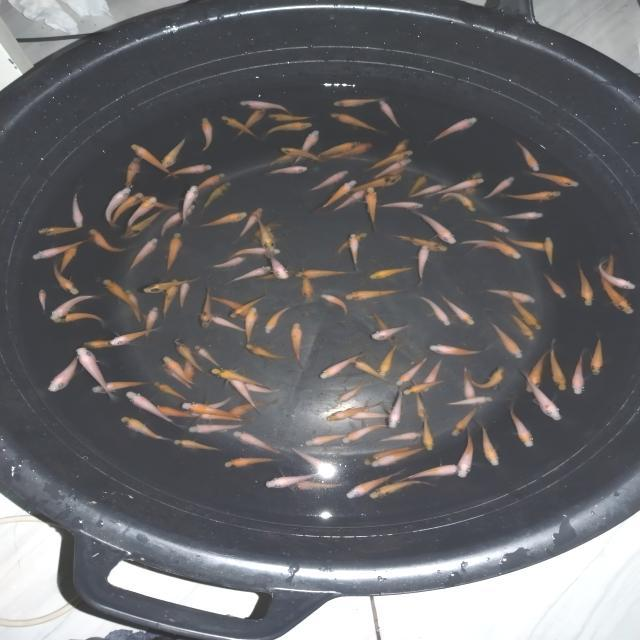nila: (514, 369, 564, 422), (123, 389, 184, 431), (340, 466, 404, 502), (74, 346, 114, 399), (30, 234, 96, 263), (368, 478, 436, 506), (130, 142, 179, 180), (484, 318, 526, 362), (595, 271, 635, 317), (102, 278, 148, 318), (210, 366, 280, 392), (226, 370, 263, 418), (502, 290, 544, 330), (44, 353, 86, 393), (414, 210, 460, 246), (423, 116, 480, 145), (390, 462, 465, 484), (178, 397, 244, 422), (315, 350, 369, 380), (264, 466, 326, 492), (50, 292, 99, 324), (468, 240, 528, 266), (316, 178, 357, 216), (504, 404, 536, 450), (175, 396, 233, 421), (589, 262, 637, 292), (120, 414, 171, 442), (544, 338, 570, 392), (427, 175, 488, 198), (326, 397, 382, 422), (122, 196, 157, 236), (102, 186, 136, 226), (524, 345, 552, 393), (440, 293, 478, 328), (110, 191, 148, 226), (158, 361, 198, 394), (120, 210, 164, 240), (232, 429, 282, 455), (362, 443, 416, 467), (231, 206, 264, 245), (124, 237, 157, 275), (368, 158, 416, 184), (223, 262, 271, 288), (288, 445, 332, 473), (368, 446, 424, 468), (348, 174, 404, 196), (326, 110, 382, 132), (338, 423, 391, 446), (525, 170, 583, 191), (173, 338, 211, 370), (160, 354, 198, 386), (206, 294, 256, 318), (456, 428, 478, 482), (475, 422, 502, 466), (416, 294, 452, 327), (350, 358, 392, 386), (233, 105, 268, 138), (366, 148, 414, 172), (201, 180, 233, 216), (138, 276, 202, 294), (263, 120, 315, 142), (280, 478, 350, 494), (393, 234, 449, 254), (219, 113, 259, 141), (194, 208, 250, 228), (228, 292, 268, 320), (106, 326, 162, 346), (574, 262, 596, 312), (394, 356, 428, 388), (513, 138, 545, 172), (158, 134, 188, 170), (160, 162, 220, 180), (301, 428, 352, 449), (366, 306, 394, 344), (86, 228, 132, 251), (362, 185, 384, 233), (162, 231, 186, 275), (308, 169, 350, 194), (480, 286, 538, 304), (220, 401, 278, 419), (467, 364, 507, 390), (478, 175, 516, 202), (168, 203, 201, 234), (50, 262, 80, 296), (586, 332, 608, 378), (208, 312, 250, 336), (87, 378, 150, 394), (376, 342, 401, 382), (332, 190, 370, 216), (365, 262, 414, 282), (316, 139, 360, 161), (159, 277, 182, 319), (222, 454, 282, 470), (426, 342, 486, 358), (262, 304, 292, 336), (278, 146, 331, 164), (344, 286, 402, 302), (506, 313, 539, 341), (600, 244, 620, 290), (333, 231, 367, 258), (136, 194, 187, 212), (124, 286, 146, 327), (570, 348, 588, 398), (542, 272, 572, 302), (331, 142, 376, 162), (244, 342, 289, 362), (50, 313, 110, 328), (120, 154, 144, 191), (378, 97, 403, 132), (506, 236, 554, 254), (152, 381, 193, 402), (386, 388, 406, 431), (436, 192, 479, 212), (298, 126, 320, 165), (190, 411, 251, 425), (424, 356, 446, 394), (192, 342, 224, 368), (180, 184, 198, 230), (224, 247, 287, 260), (266, 250, 290, 284), (56, 243, 78, 280), (172, 440, 230, 454), (400, 378, 445, 396), (408, 168, 434, 199), (336, 378, 368, 403), (65, 191, 86, 229), (443, 393, 496, 408), (452, 408, 478, 438), (502, 190, 562, 203), (457, 169, 483, 199), (318, 292, 348, 318), (198, 288, 216, 331), (290, 321, 306, 369), (410, 386, 430, 424), (242, 304, 261, 344), (369, 323, 411, 341), (149, 404, 199, 419), (196, 171, 227, 195), (158, 211, 185, 238), (328, 95, 384, 108), (240, 100, 292, 114), (142, 306, 161, 344), (470, 217, 510, 235), (256, 218, 276, 254), (376, 429, 427, 443), (406, 182, 448, 199), (240, 379, 282, 396), (299, 261, 315, 305), (460, 360, 477, 400), (35, 224, 83, 238), (186, 424, 250, 434), (343, 410, 400, 421), (458, 237, 506, 250), (255, 220, 282, 243), (378, 200, 429, 212), (174, 278, 192, 312), (266, 112, 316, 124), (259, 164, 317, 174), (293, 270, 351, 280), (259, 268, 300, 282), (416, 244, 429, 288), (495, 211, 547, 222), (199, 115, 214, 153), (420, 416, 436, 451), (541, 234, 557, 269), (392, 135, 412, 163), (348, 230, 361, 272), (268, 151, 302, 167), (78, 340, 130, 350), (209, 256, 248, 269), (186, 342, 194, 382), (36, 286, 48, 312)
